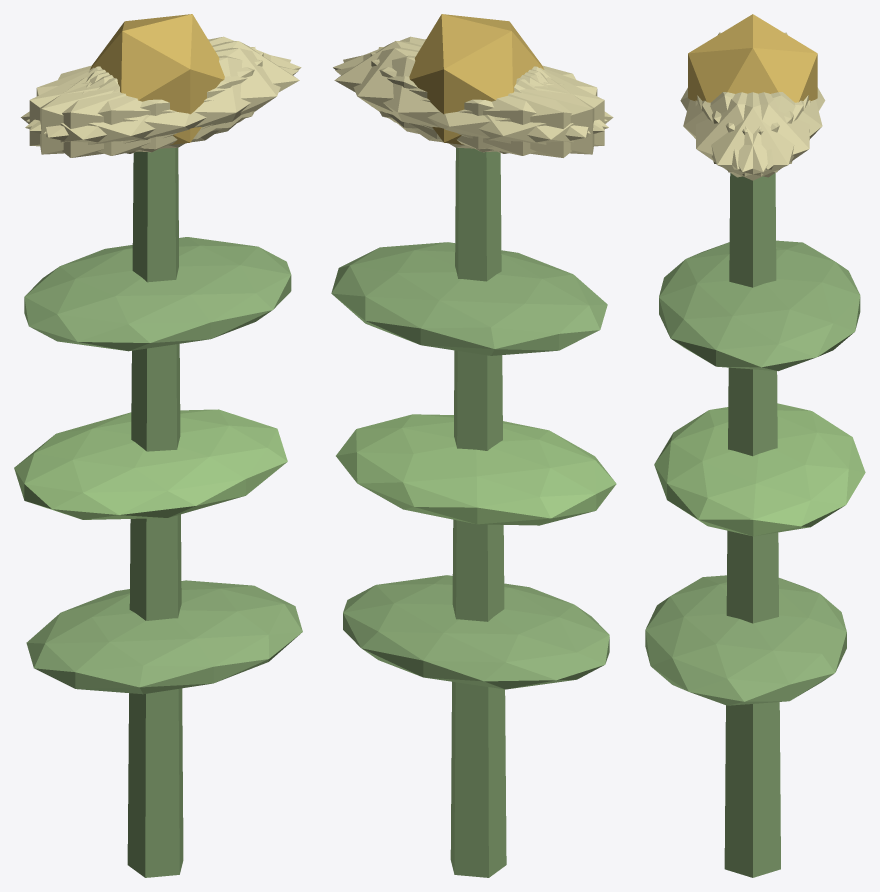
File: citharexylum-subflavescens.glb
The picture shows the model from 3 angles, left to right: view 1: azimuth 30°, elevation 25°; view 2: azimuth 150°, elevation 25°; view 3: azimuth 270°, elevation 25°; orthographic projection.
Parts seen in each view (by area): view 1: stem, leaf0, leaf2, leaf1, center, petal1, petal6, petal2, petal5, petal7, petal0, petal4 (+2 smaller); view 2: stem, leaf2, leaf1, leaf0, center, petal8, petal3, petal7, petal4, petal2, petal0, petal5 (+2 smaller); view 3: stem, leaf2, leaf1, leaf0, center, petal0, petal4, petal5, petal8, petal1.
Part boxes in pixels (x1=…): stem: x1=127, y1=147, x2=183, y2=877; leaf0: x1=26, y1=580, x2=302, y2=694; leaf2: x1=24, y1=237, x2=291, y2=351; leaf1: x1=14, y1=409, x2=287, y2=519; center: x1=90, y1=14, x2=224, y2=144; petal1: x1=25, y1=55, x2=298, y2=155; petal6: x1=21, y1=67, x2=218, y2=157; petal2: x1=40, y1=47, x2=255, y2=154; petal5: x1=43, y1=47, x2=290, y2=149; petal7: x1=29, y1=52, x2=263, y2=152; petal0: x1=89, y1=41, x2=299, y2=139; petal4: x1=26, y1=36, x2=301, y2=131; stem: x1=450, y1=147, x2=506, y2=877; leaf2: x1=331, y1=242, x2=607, y2=355; leaf1: x1=336, y1=414, x2=616, y2=525; leaf0: x1=343, y1=575, x2=609, y2=689; center: x1=409, y1=14, x2=544, y2=144; petal8: x1=335, y1=55, x2=608, y2=155; petal3: x1=415, y1=67, x2=613, y2=157; petal7: x1=378, y1=47, x2=594, y2=154; petal4: x1=343, y1=47, x2=590, y2=149; petal2: x1=370, y1=52, x2=604, y2=152; petal0: x1=334, y1=41, x2=544, y2=139; petal5: x1=333, y1=36, x2=607, y2=131; stem: x1=724, y1=173, x2=780, y2=877; leaf2: x1=659, y1=240, x2=860, y2=371; leaf1: x1=654, y1=403, x2=865, y2=536; leaf0: x1=645, y1=575, x2=846, y2=705; center: x1=688, y1=14, x2=817, y2=102; petal0: x1=697, y1=92, x2=808, y2=180; petal4: x1=702, y1=92, x2=810, y2=177; petal5: x1=695, y1=92, x2=803, y2=177; petal8: x1=712, y1=92, x2=822, y2=169; petal1: x1=683, y1=92, x2=793, y2=169.
Bounding box in the file's own units: 0.1452 × 0.4345 × 0.1039.
